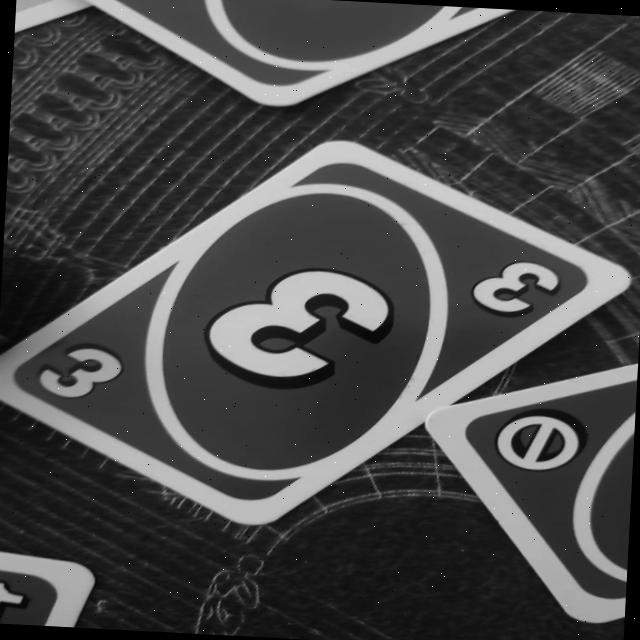card_3: (0, 121, 640, 545)
skip_card: (414, 344, 638, 626)
